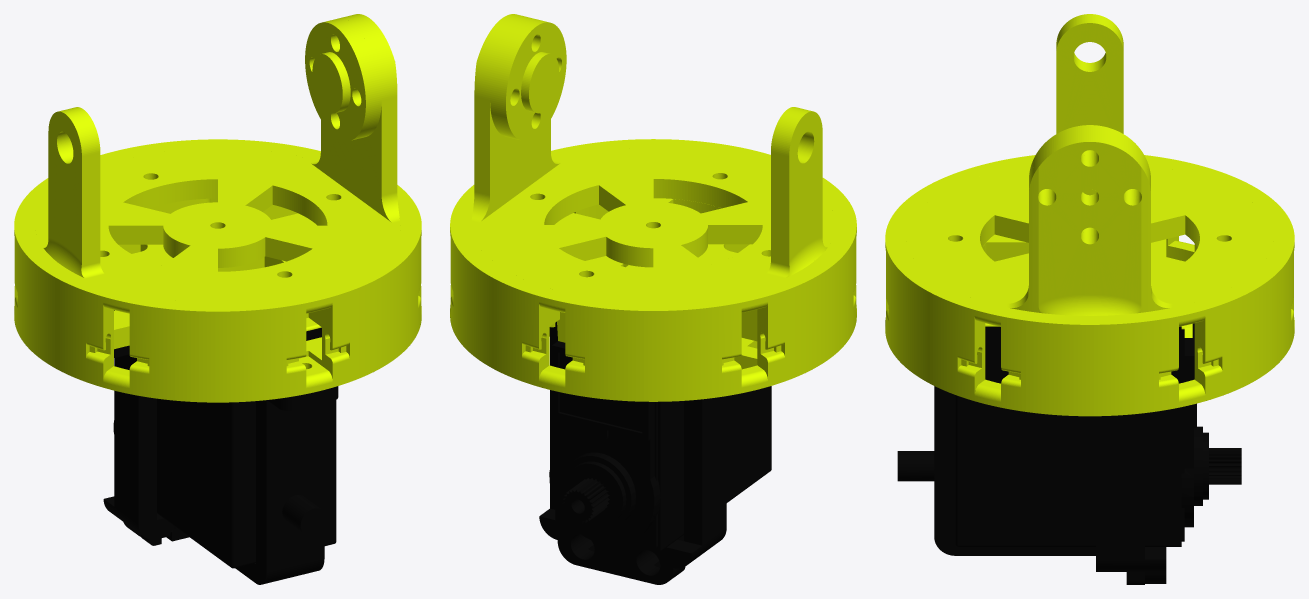
File: module_right.dae
3 renders of one model, left to right at view 1: azimuth 30°, elevation 25°; view 2: azimuth 150°, elevation 25°; view 3: azimuth 270°, elevation 25°, orthographic.
Visible parts, largest first — view 1: Module_Right; view 2: Module_Right; view 3: Module_Right.
Part boxes in pixels (left/top/right/bottom): Module_Right: left=14, top=14, right=421, bottom=584; Module_Right: left=450, top=14, right=856, bottom=584; Module_Right: left=885, top=14, right=1294, bottom=584.
Size of the model in its own units: 0.067 by 0.067 by 0.0894.
